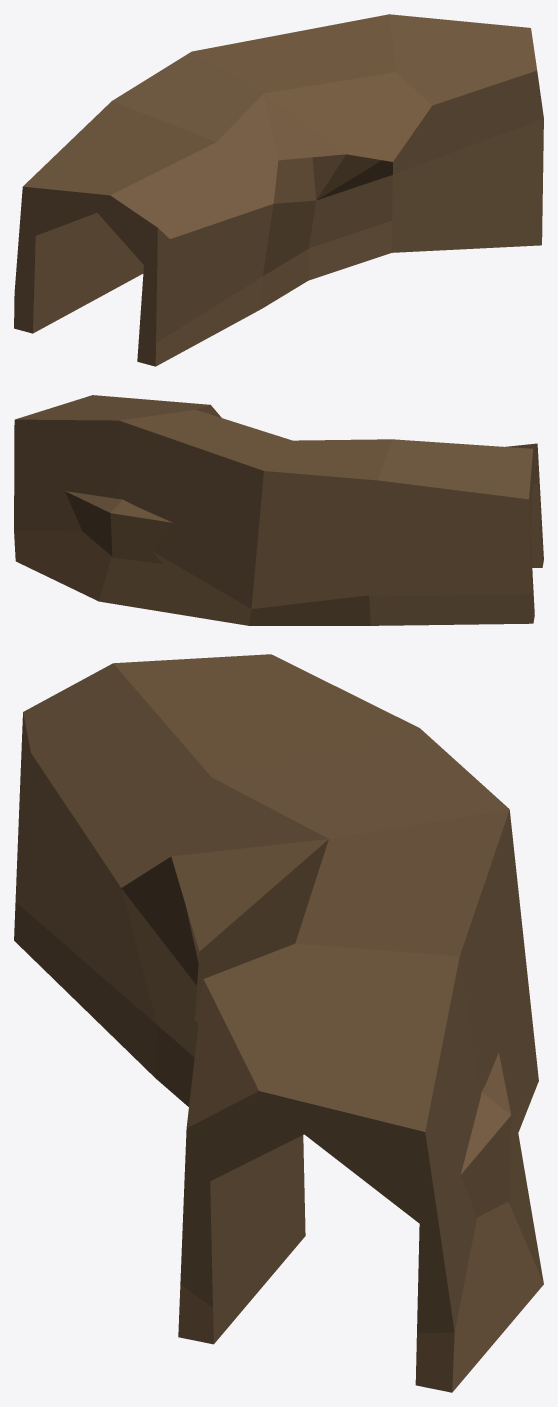
File: caveL.fbx
3 renders of one model, top to bottom at view 1: azimuth 30°, elevation 25°; view 2: azimuth 150°, elevation 25°; view 3: azimuth 270°, elevation 25°, orthographic. The views are drawn at different scales.
Parts seen in each view (by area): view 1: Cube; view 2: Cube; view 3: Cube.
Boxes of the visible parts, x1,y1,x2,y2 form: Cube: (14,14,543,366); Cube: (14,395,543,625); Cube: (14,654,543,1392).
Size of the model in its own units: 756 by 252 by 362.
